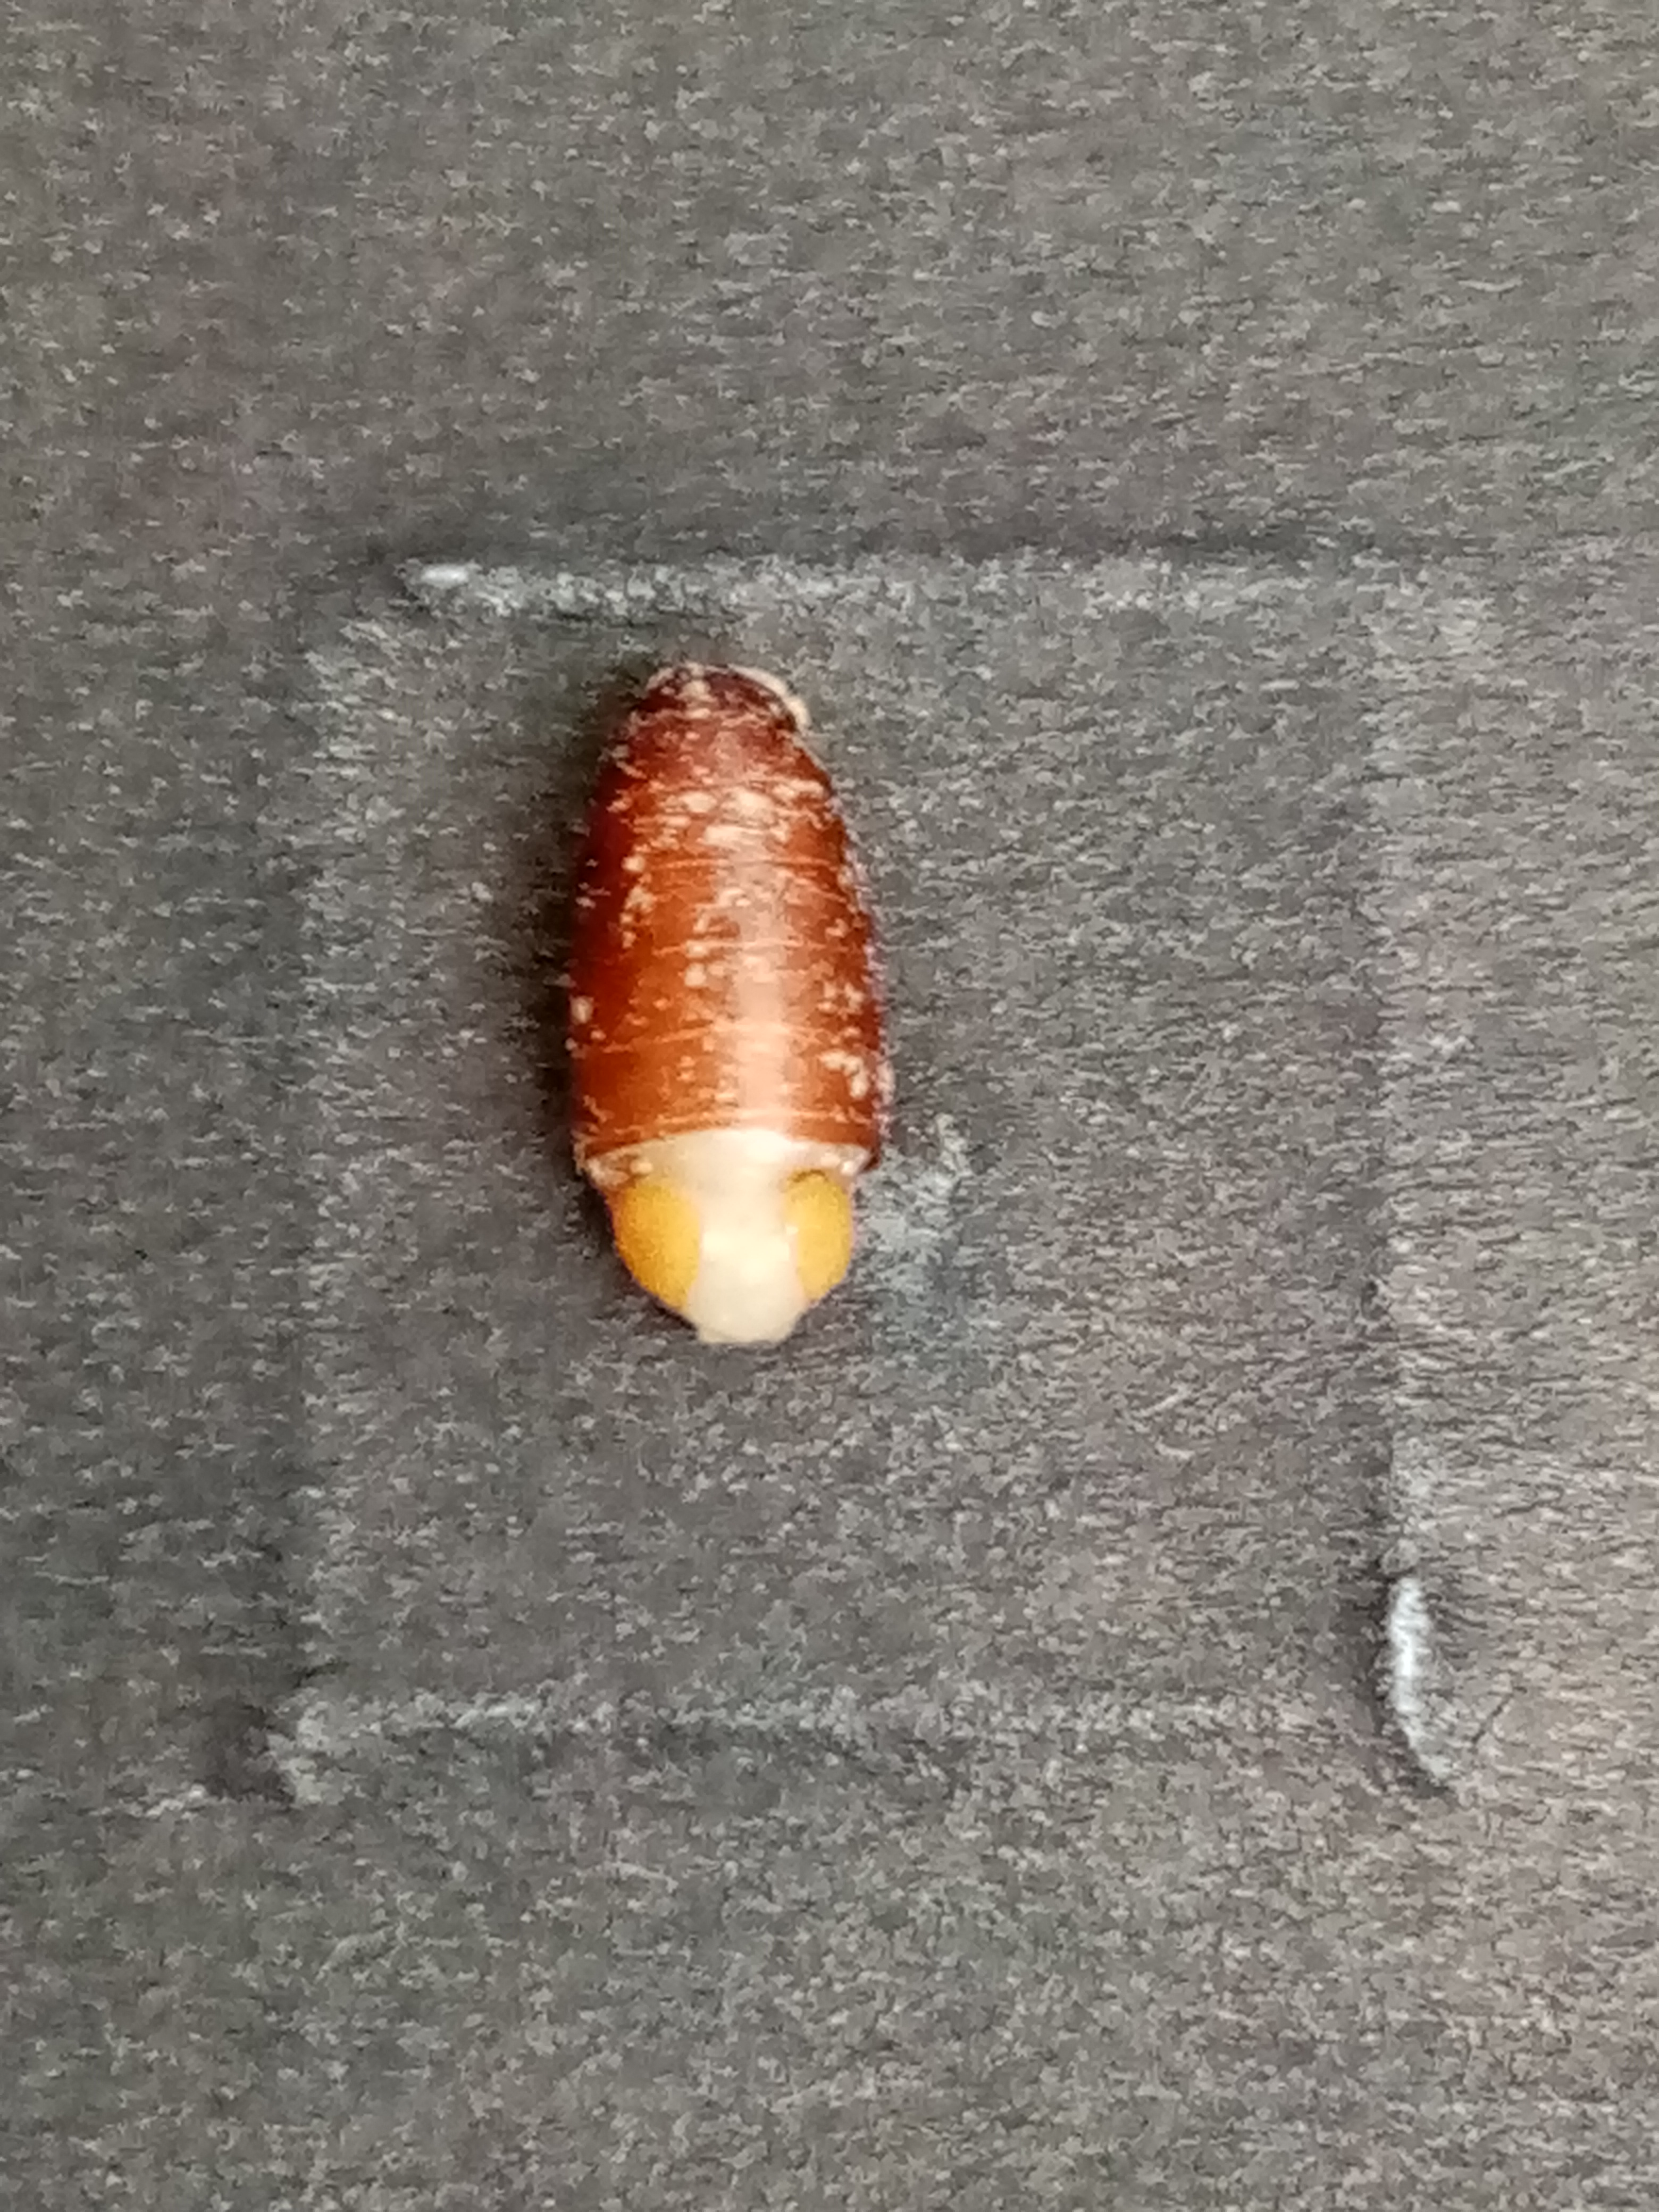pupa: (594, 1158, 875, 1346)
